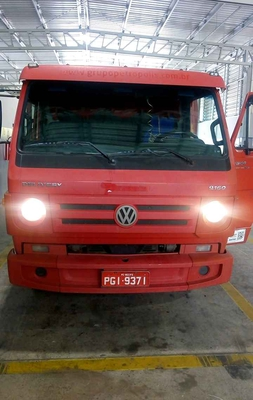Frontal Caminhao: (3, 61, 238, 295)
